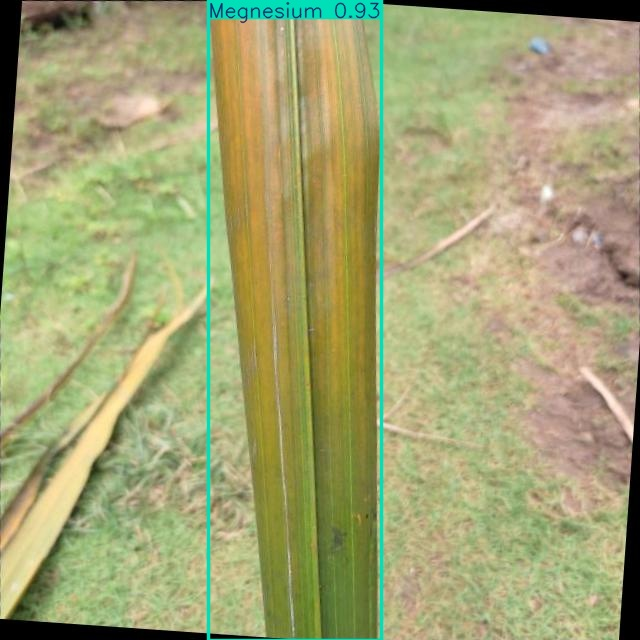Megnesium: (209, 0, 382, 640)
